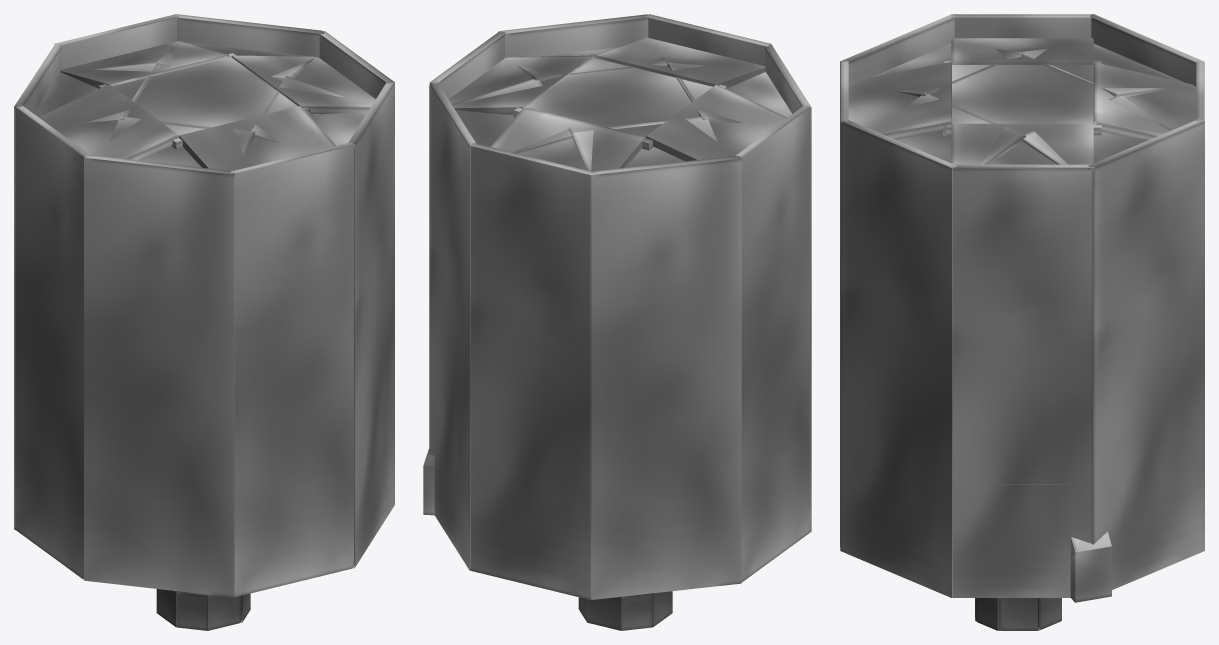
The model's file is secondstage_used.obj.
The picture shows the model from 3 angles, left to right: view 1: azimuth 30°, elevation 25°; view 2: azimuth 150°, elevation 25°; view 3: azimuth 270°, elevation 25°; orthographic projection.
Parts seen in each view (by area): view 1: Rocket; view 2: Rocket; view 3: Rocket.
Boxes of the visible parts, bbox=[...] form: Rocket: bbox=[14, 14, 394, 630]; Rocket: bbox=[423, 14, 811, 630]; Rocket: bbox=[840, 14, 1204, 630].
Bounding box in the file's own units: 2.97 × 4.56 × 2.88.
